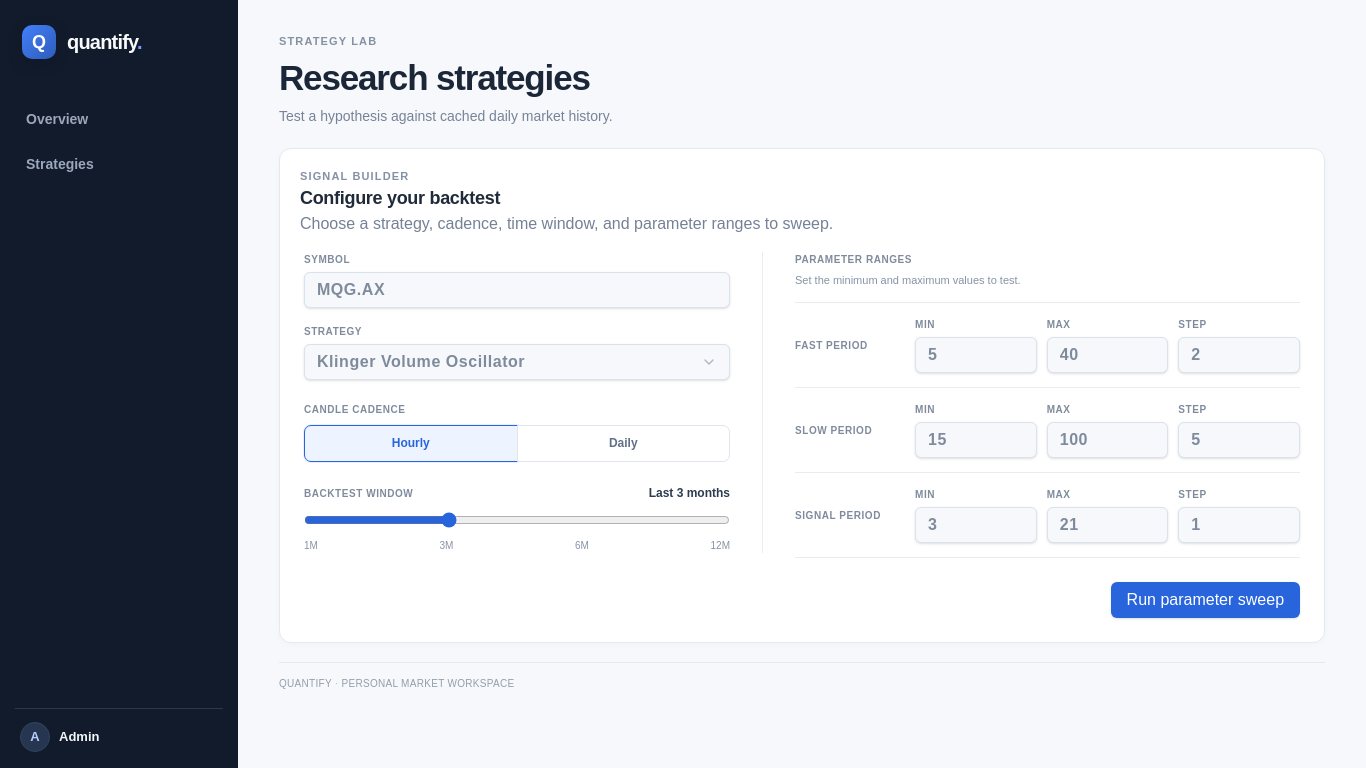
Test: ResearchPage › validates the symbol field when it loses focus
The image size is (1366, 768).
Clear the field named "Ticker for backtest": (517, 290) [304,272,730,308]
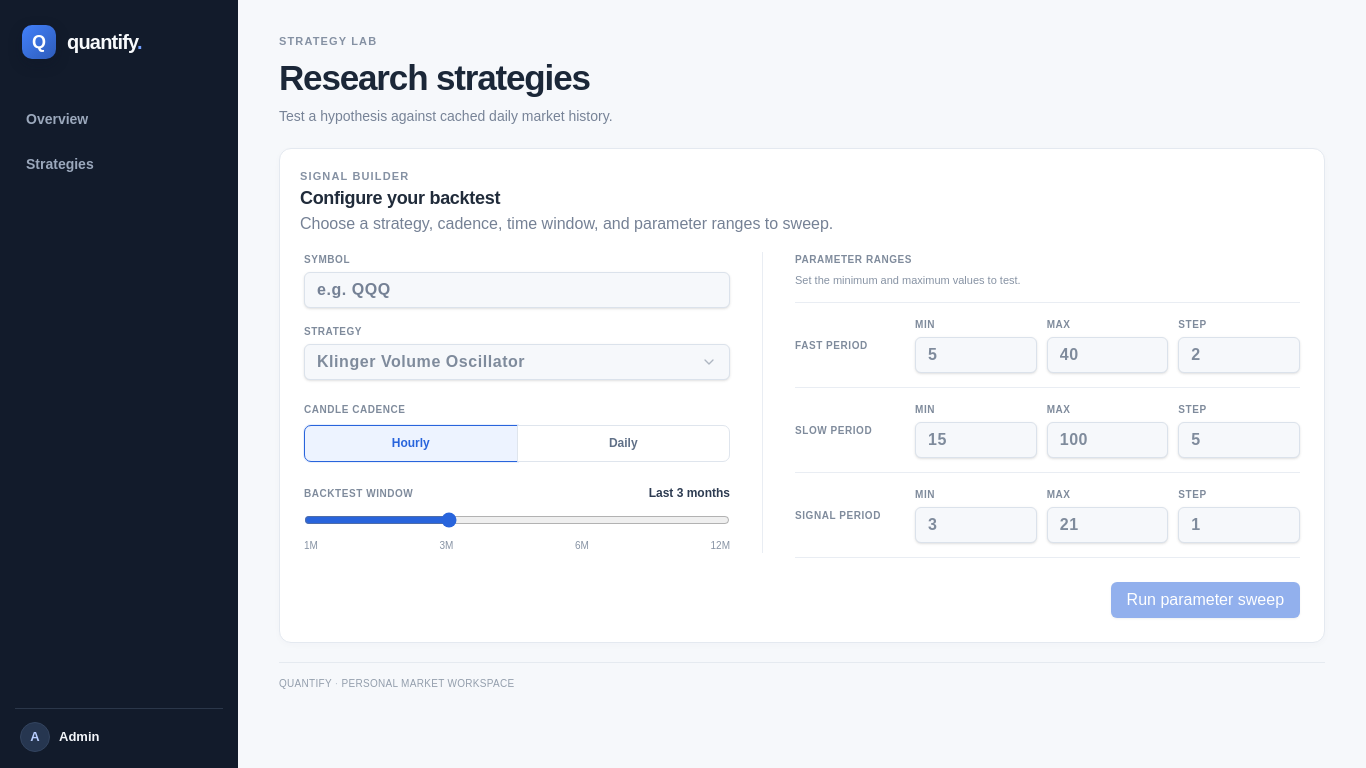
Expected: the text "Symbol is required." is not shown
Now the button "Run parameter sweep" is disabled, box [1111,582,1300,618]
Leave the field named "Ticker for backtest", box [304,272,730,308]
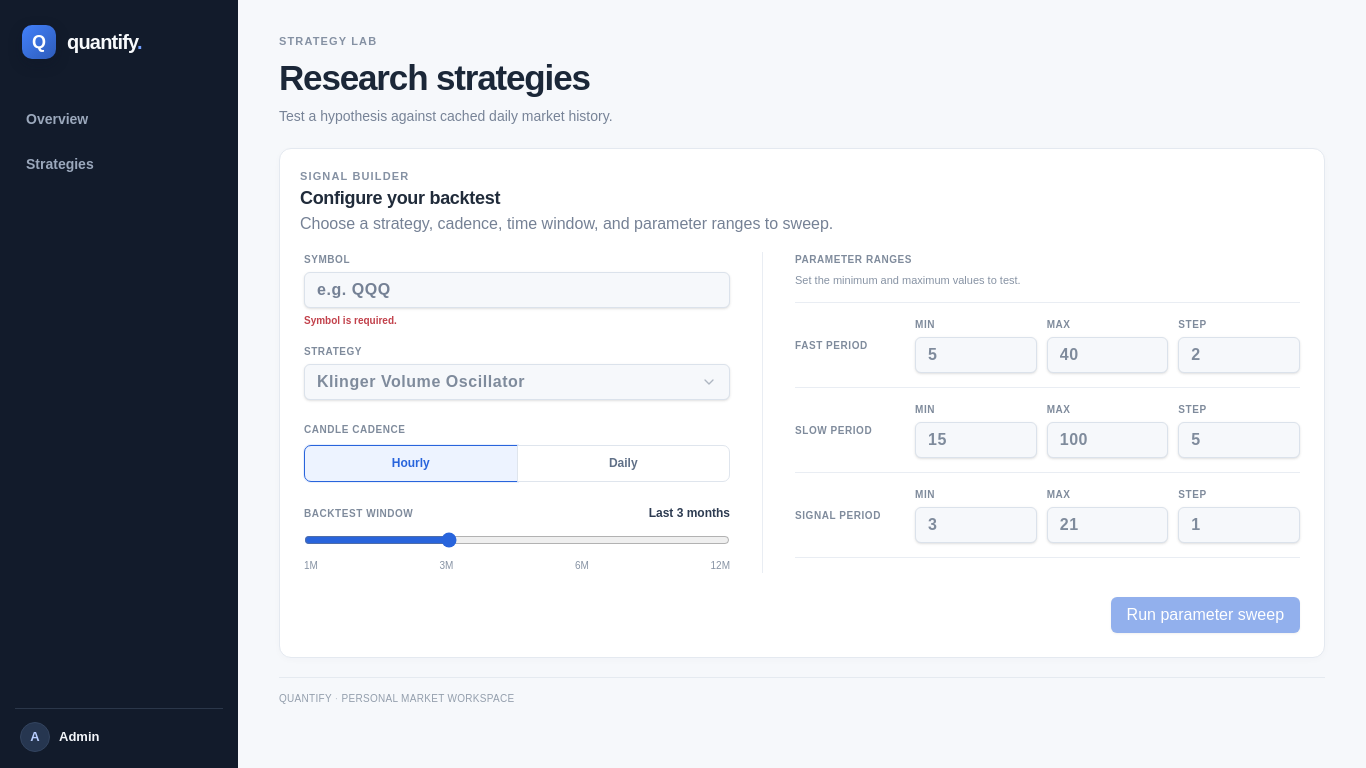
Now the text "Symbol is required." is shown, box [304,315,397,326]
In the field named "Ticker for backtest": (517, 290) [304,272,730,308], type "QQQ"
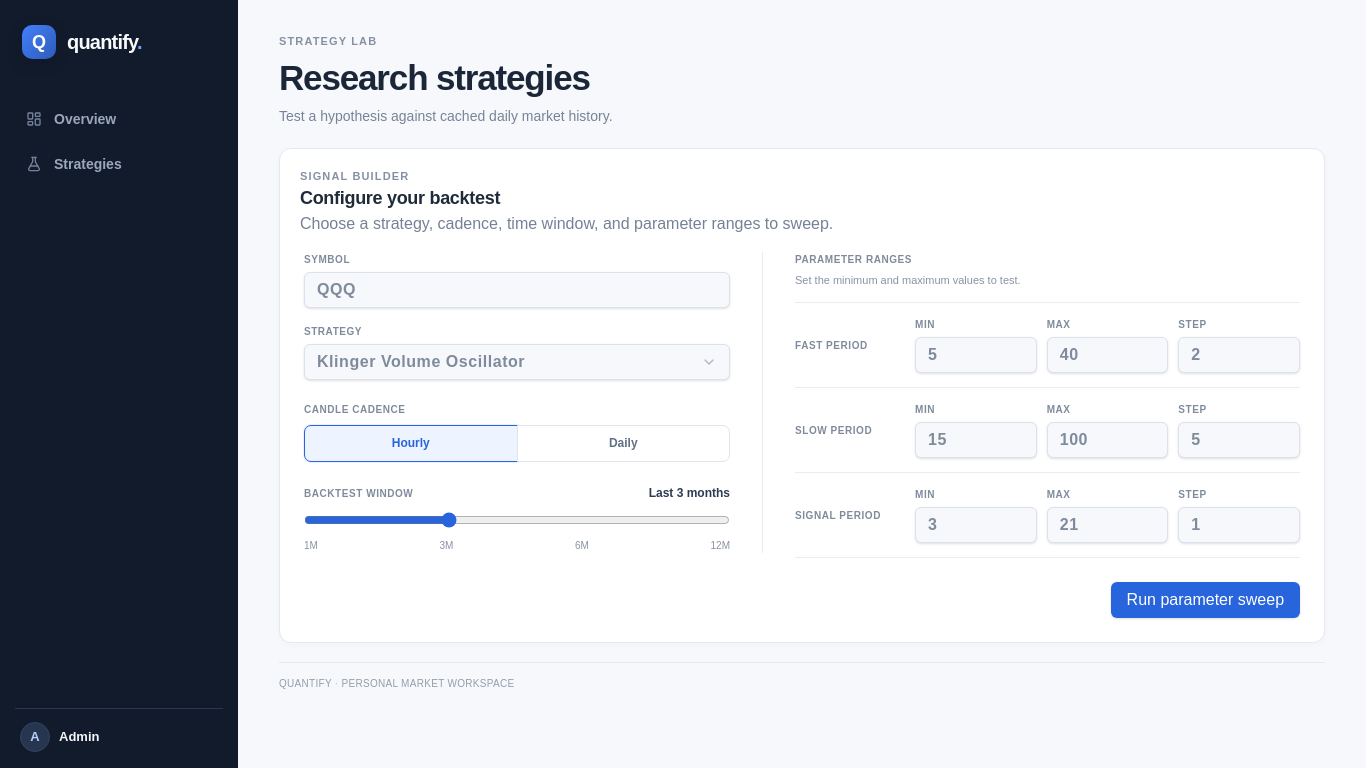
Now the text "Symbol is required." is gone
Now the button "Run parameter sweep" is enabled, box [1111,582,1300,618]
